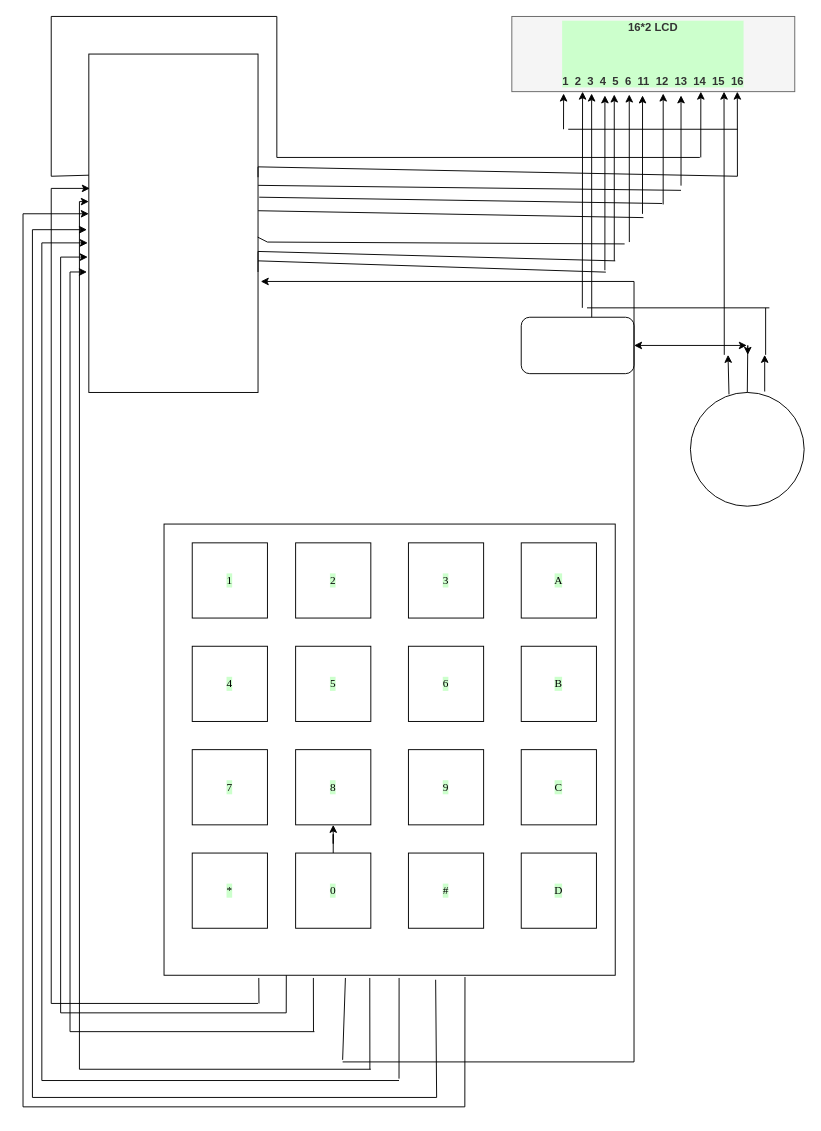
Some shapes in this 821 by 1131 pixel diagram are drawn without their labels. Here are the shapes that lost their labels. From the top down, the centre of each, then its label:
At (173,222): "PB7 GRD PF0 PB6 PF1 PB5 PF4 PB4 PF5 PB3 PF2 PB2 PC5 PB1 PC6 PB0 PC7".
At (577,345): "RESISTOR".
At (746,449): "POTENTIOMETER".
